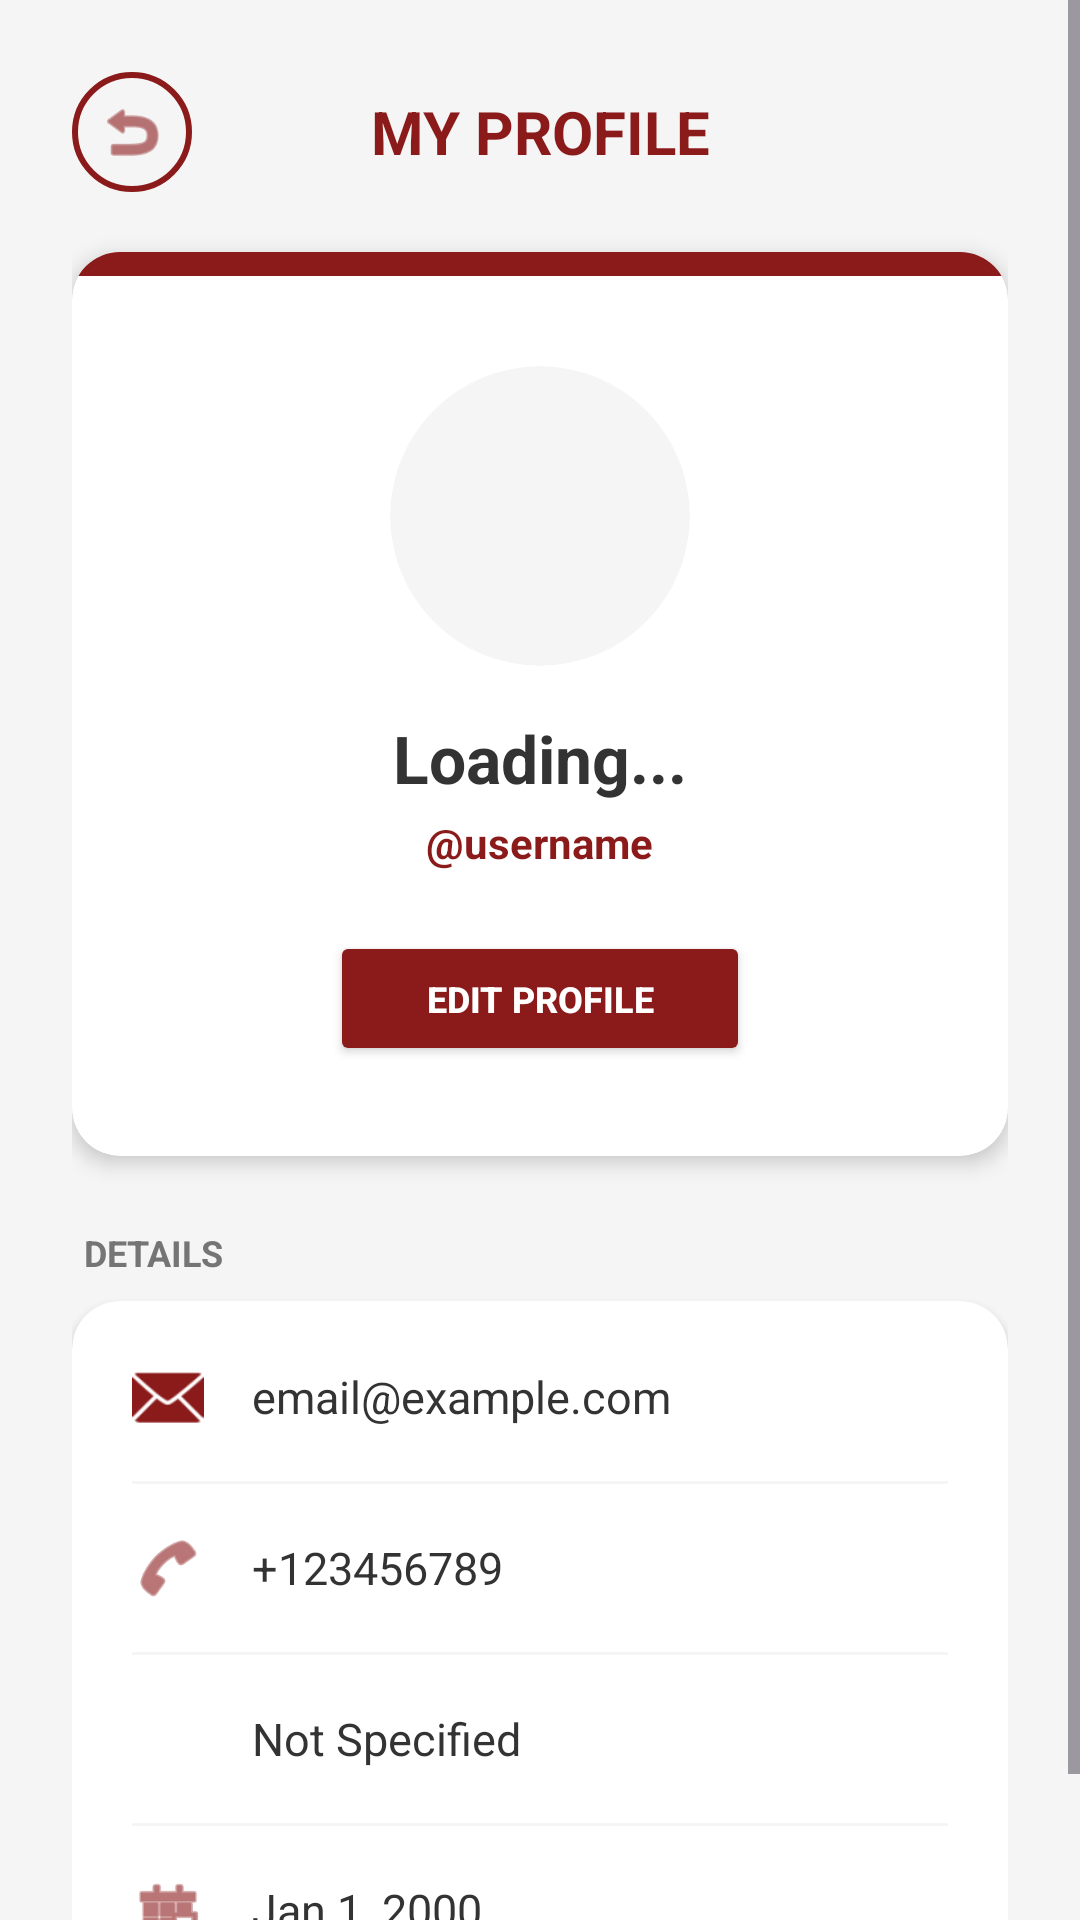

Icon bounding boxes for this 1080×1920 phone screenshot, format [x1=x1, y1=y1, x2=x2, y2=y2]:
call: [x1=140, y1=1540, x2=197, y2=1597]
revert: [x1=72, y1=72, x2=192, y2=192]
